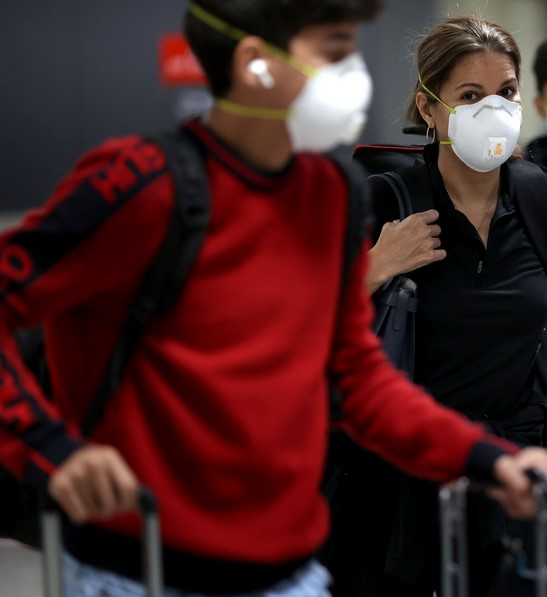face_with_mask: (180, 7, 378, 156), (413, 25, 526, 172)
